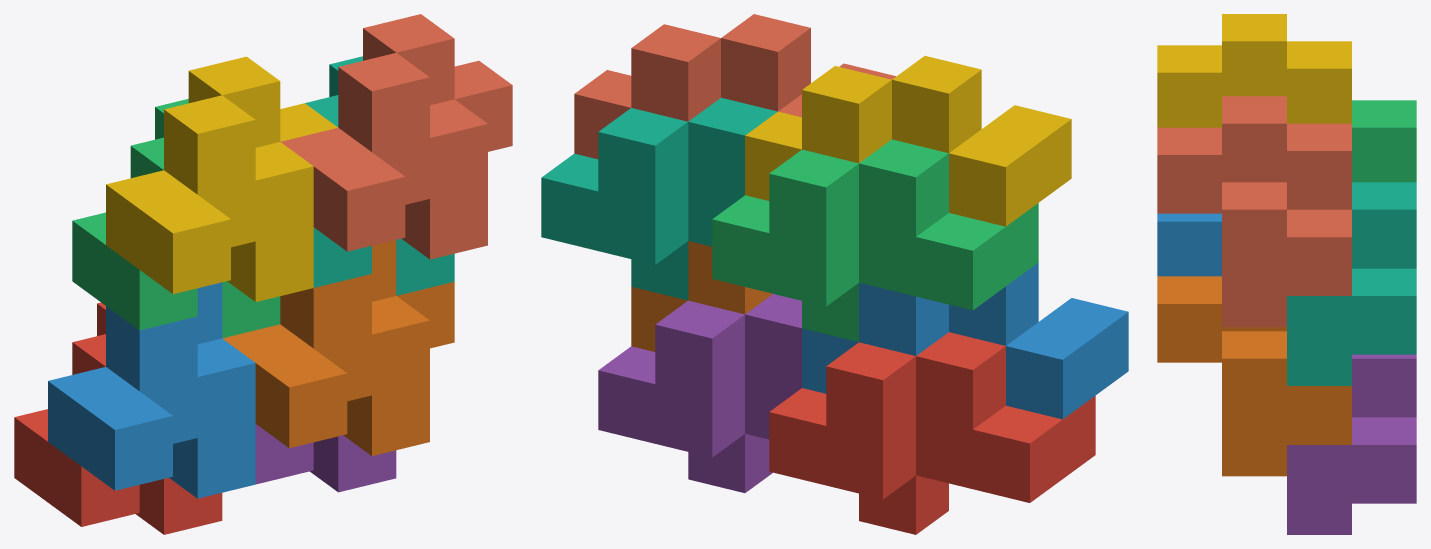
Rendered from tiling.obj.
The picture shows the model from 3 angles, left to right: view 1: azimuth 30°, elevation 25°; view 2: azimuth 150°, elevation 25°; view 3: azimuth 270°, elevation 25°; orthographic projection. The views are drawn at different scales.
Visible parts, largest first — view 1: copy_1_domain_8, copy_1_domain_4, copy_1_domain_2, copy_1_domain_6, copy_1_domain_1, copy_1_domain_3, copy_1_domain_5, copy_1_domain_7; view 2: copy_1_domain_1, copy_1_domain_3, copy_1_domain_4, copy_1_domain_5, copy_1_domain_7, copy_1_domain_2, copy_1_domain_8, copy_1_domain_6; view 3: copy_1_domain_8, copy_1_domain_6, copy_1_domain_7, copy_1_domain_4, copy_1_domain_5, copy_1_domain_3, copy_1_domain_2.
Part boxes in pixels (x1,y1,x2,y2): copy_1_domain_8: (280, 14, 512, 259); copy_1_domain_4: (106, 56, 337, 301); copy_1_domain_2: (48, 282, 255, 498); copy_1_domain_6: (222, 240, 454, 455); copy_1_domain_1: (14, 302, 222, 534); copy_1_domain_3: (72, 99, 280, 338); copy_1_domain_5: (255, 424, 396, 492); copy_1_domain_7: (305, 56, 454, 295); copy_1_domain_1: (769, 332, 1095, 534); copy_1_domain_3: (712, 139, 1038, 341); copy_1_domain_4: (745, 56, 1071, 226); copy_1_domain_5: (598, 294, 801, 492); copy_1_domain_7: (541, 97, 777, 300); copy_1_domain_2: (802, 262, 1128, 419); copy_1_domain_8: (574, 14, 895, 159); copy_1_domain_6: (631, 241, 772, 351); copy_1_domain_8: (1157, 96, 1351, 327); copy_1_domain_6: (1157, 276, 1351, 476); copy_1_domain_7: (1287, 182, 1416, 385); copy_1_domain_4: (1157, 14, 1351, 127); copy_1_domain_5: (1287, 354, 1416, 534); copy_1_domain_3: (1352, 100, 1416, 182); copy_1_domain_2: (1157, 213, 1221, 276).
Size of the model in its own units: 8 by 7 by 4.
